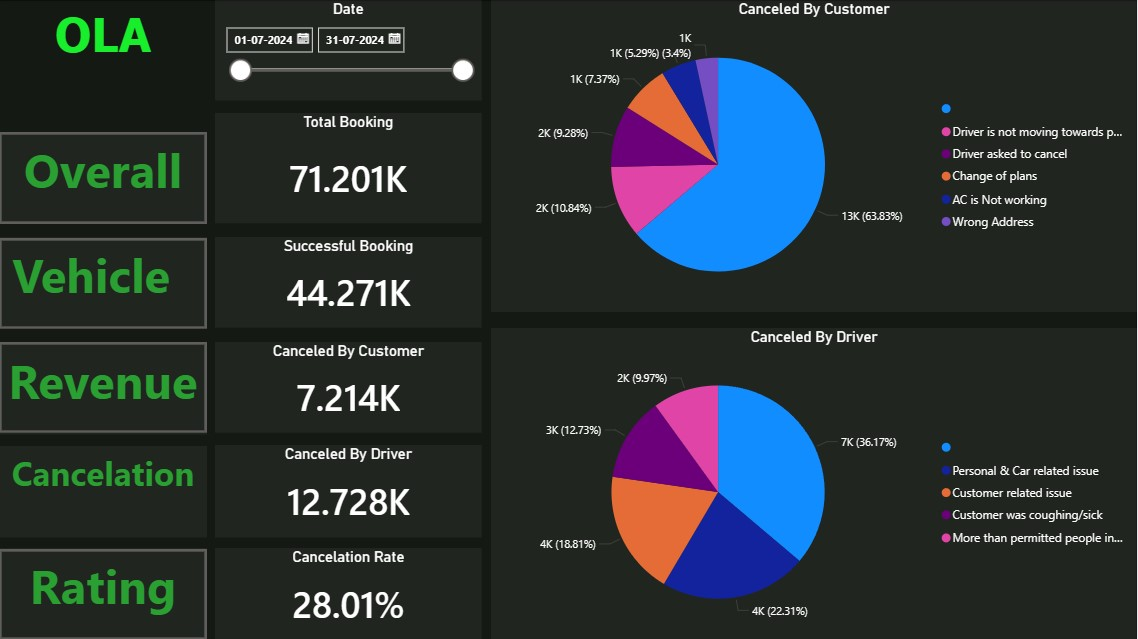

This screenshot's page, from the dashboard's own definition file:
{"tool":"powerbi","page":{"name":"Cancelation","canvas":[1280,720],"ordinal":3},"visuals":[{"type":"textbox","box":[0,0,234.2,103.9],"z":0},{"type":"textbox","box":[0,267.1,234.2,102.6],"z":1000},{"type":"textbox","box":[0,385.4,234.2,102.6],"z":2000},{"type":"textbox","box":[0,617,234.2,102.6],"z":3000},{"type":"textbox","box":[0,501.2,234.2,102.6],"z":4000},{"type":"textbox","box":[0,148.7,234.2,102.6],"z":5000},{"type":"slicer","title":"Date","fields":{"Values":["cleaned_bookings.Date"]},"box":[243.4,0,299.9,113.1],"z":6000},{"type":"cardVisual","title":"Total Booking","fields":{"Data":["CountNonNull(cleaned_bookings.Booking_ID)"]},"box":[243.4,127.6,299.9,123.7],"z":7000},{"type":"pieChart","title":"Canceled By Customer","fields":{"Category":["cleaned_bookings.Canceled_Rides_by_Customer"],"Y":["cleaned_bookings.Total Canceled"]},"box":[553.1,0,726.9,351.4],"z":9000},{"type":"actionButton","box":[0,148.5,234,103.5],"z":11000},{"type":"actionButton","box":[0,267.8,234,102.4],"z":12000},{"type":"actionButton","box":[0,384.8,234,102.4],"z":13000},{"type":"actionButton","box":[0,617.6,234,102.4],"z":14000},{"type":"cardVisual","title":"Successful Booking","fields":{"Data":["CountNonNull(cleaned_bookings.Booking_ID)"]},"box":[243,266.6,300.4,102.4],"z":14001},{"type":"cardVisual","title":"Canceled By Customer","fields":{"Data":["CountNonNull(cleaned_bookings.Canceled_Rides_by_Customer)"]},"box":[243,384.8,300.4,102.4],"z":14002},{"type":"cardVisual","title":"Canceled By Driver","fields":{"Data":["CountNonNull(cleaned_bookings.Canceled_Rides_by_Driver)"]},"box":[243,500.6,300.4,103.5],"z":14003},{"type":"cardVisual","title":"Cancelation Rate","fields":{"Data":["cleaned_bookings.Cancellation Rate"]},"box":[243,616.5,300.4,103.5],"z":14004},{"type":"pieChart","title":"Canceled By Driver","fields":{"Y":["cleaned_bookings.Total Canceled"],"Category":["cleaned_bookings.Canceled_Rides_by_Driver"]},"box":[553.1,369.5,726.9,350.2],"z":14005}]}

Visuals, with their boxes in screenshot pixels (x1, y1, x2, y2), scaled from the page's 1280x720 canvas onto the 1138x639 screenshot:
textbox: <box>0,0,208,92</box>
textbox: <box>0,237,208,328</box>
textbox: <box>0,342,208,433</box>
textbox: <box>0,548,208,638</box>
textbox: <box>0,445,208,536</box>
textbox: <box>0,132,208,223</box>
"Date" slicer: <box>216,0,483,100</box>
"Total Booking" cardVisual: <box>216,113,483,223</box>
"Canceled By Customer" pieChart: <box>492,0,1137,312</box>
actionButton: <box>0,132,208,224</box>
actionButton: <box>0,238,208,329</box>
actionButton: <box>0,342,208,432</box>
actionButton: <box>0,548,208,638</box>
"Successful Booking" cardVisual: <box>216,237,483,327</box>
"Canceled By Customer" cardVisual: <box>216,342,483,432</box>
"Canceled By Driver" cardVisual: <box>216,444,483,536</box>
"Cancelation Rate" cardVisual: <box>216,547,483,638</box>
"Canceled By Driver" pieChart: <box>492,328,1137,638</box>
